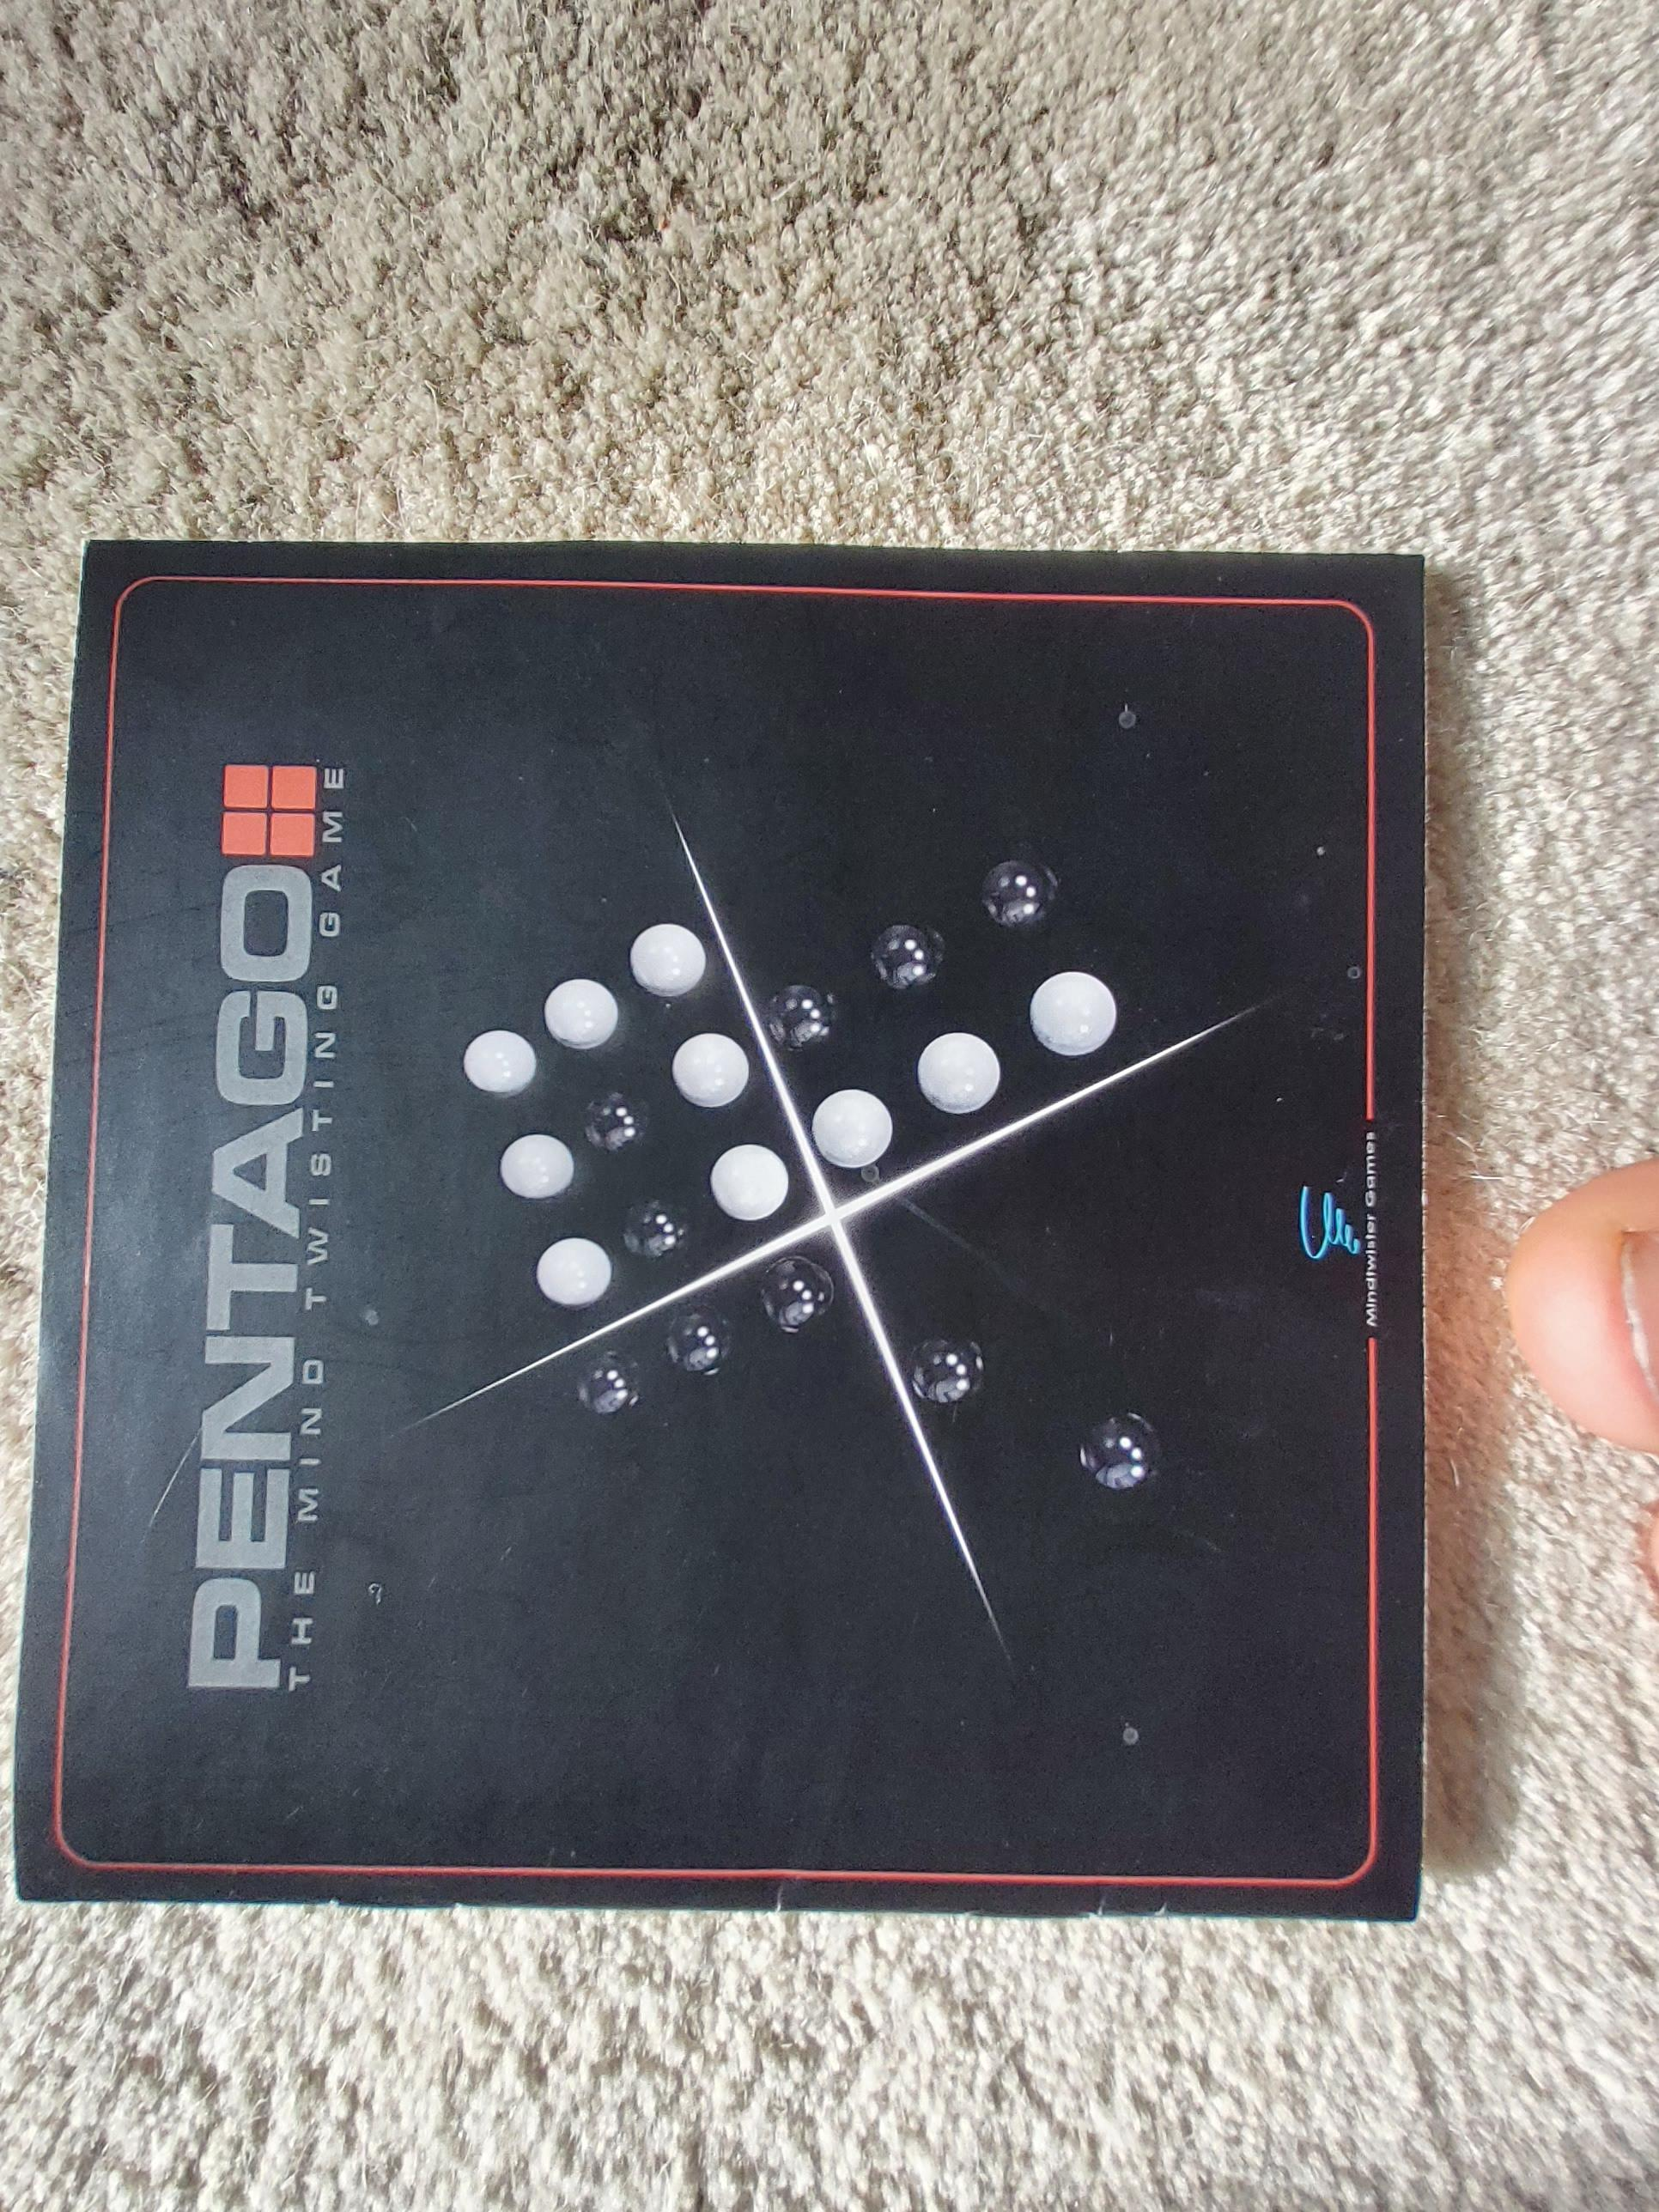pentago: (14, 533, 1429, 1939)
